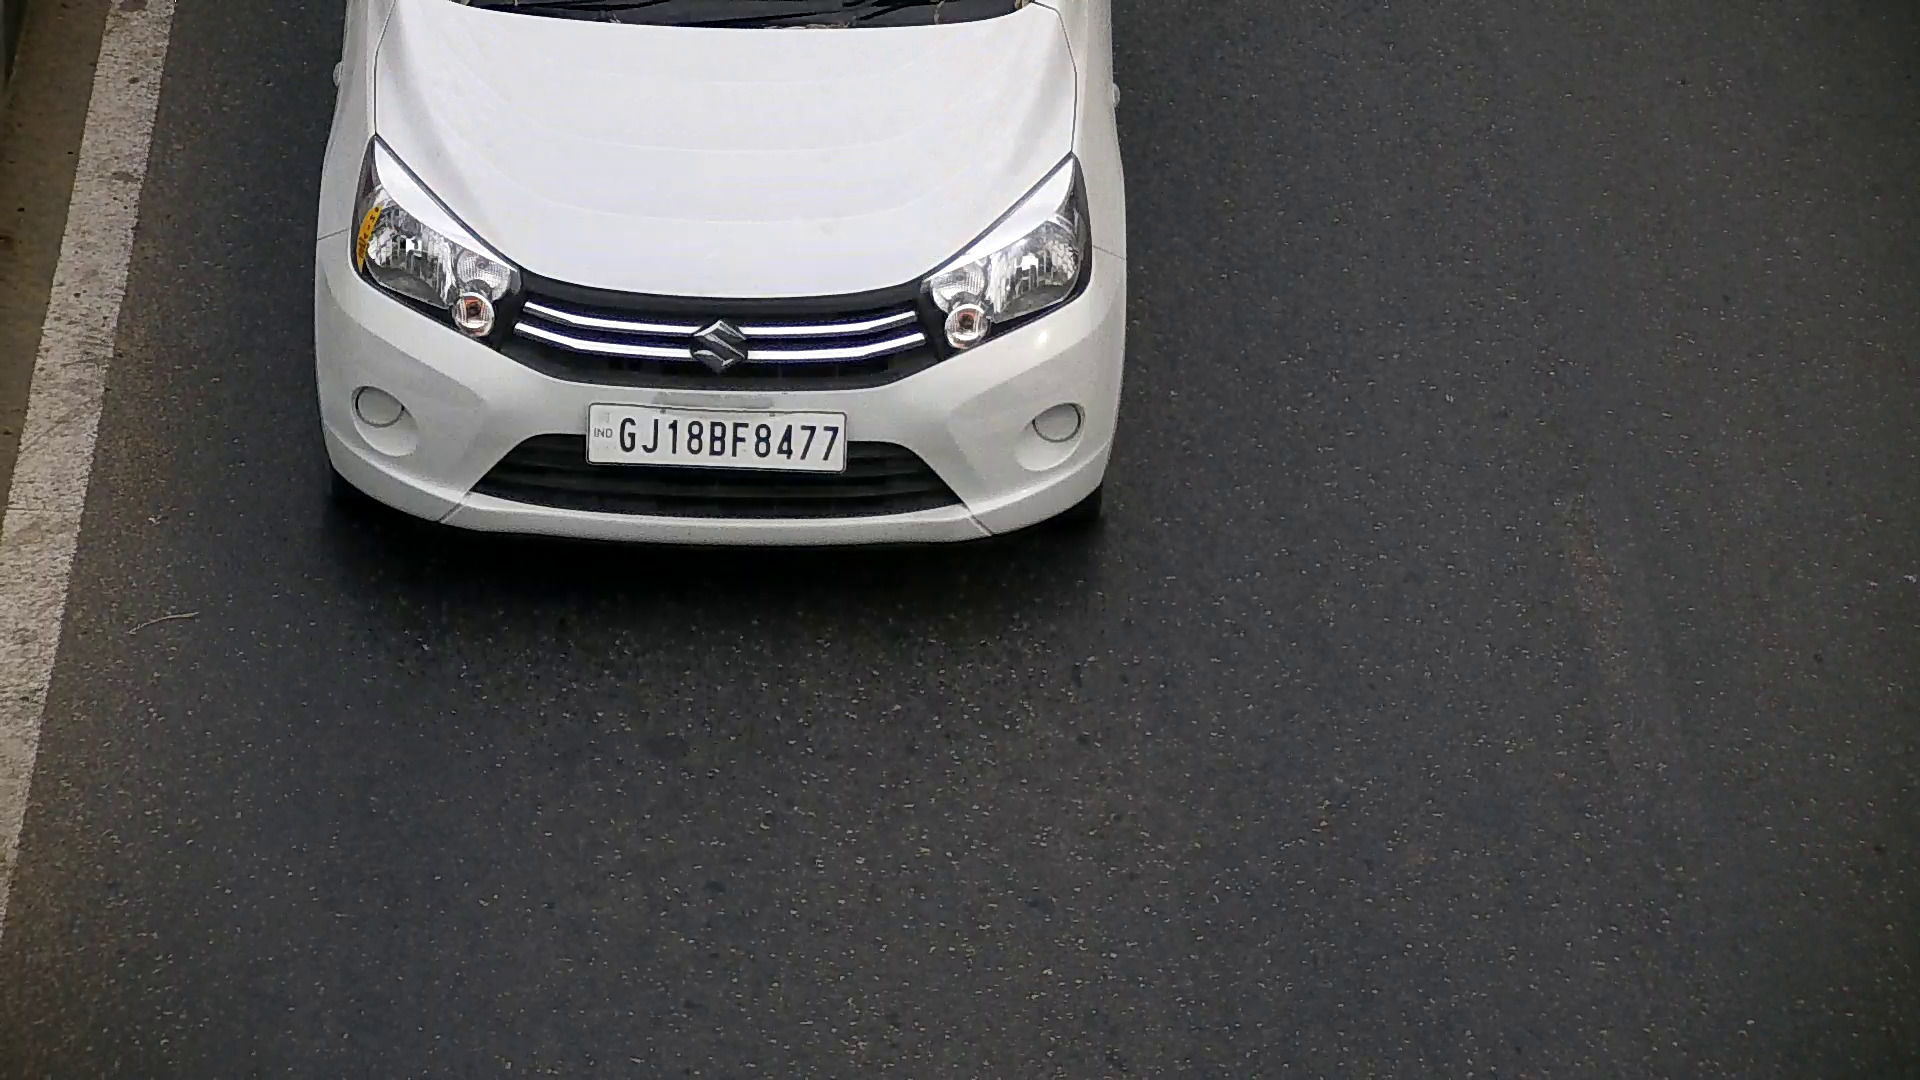numberplate: (584, 399, 857, 480)
